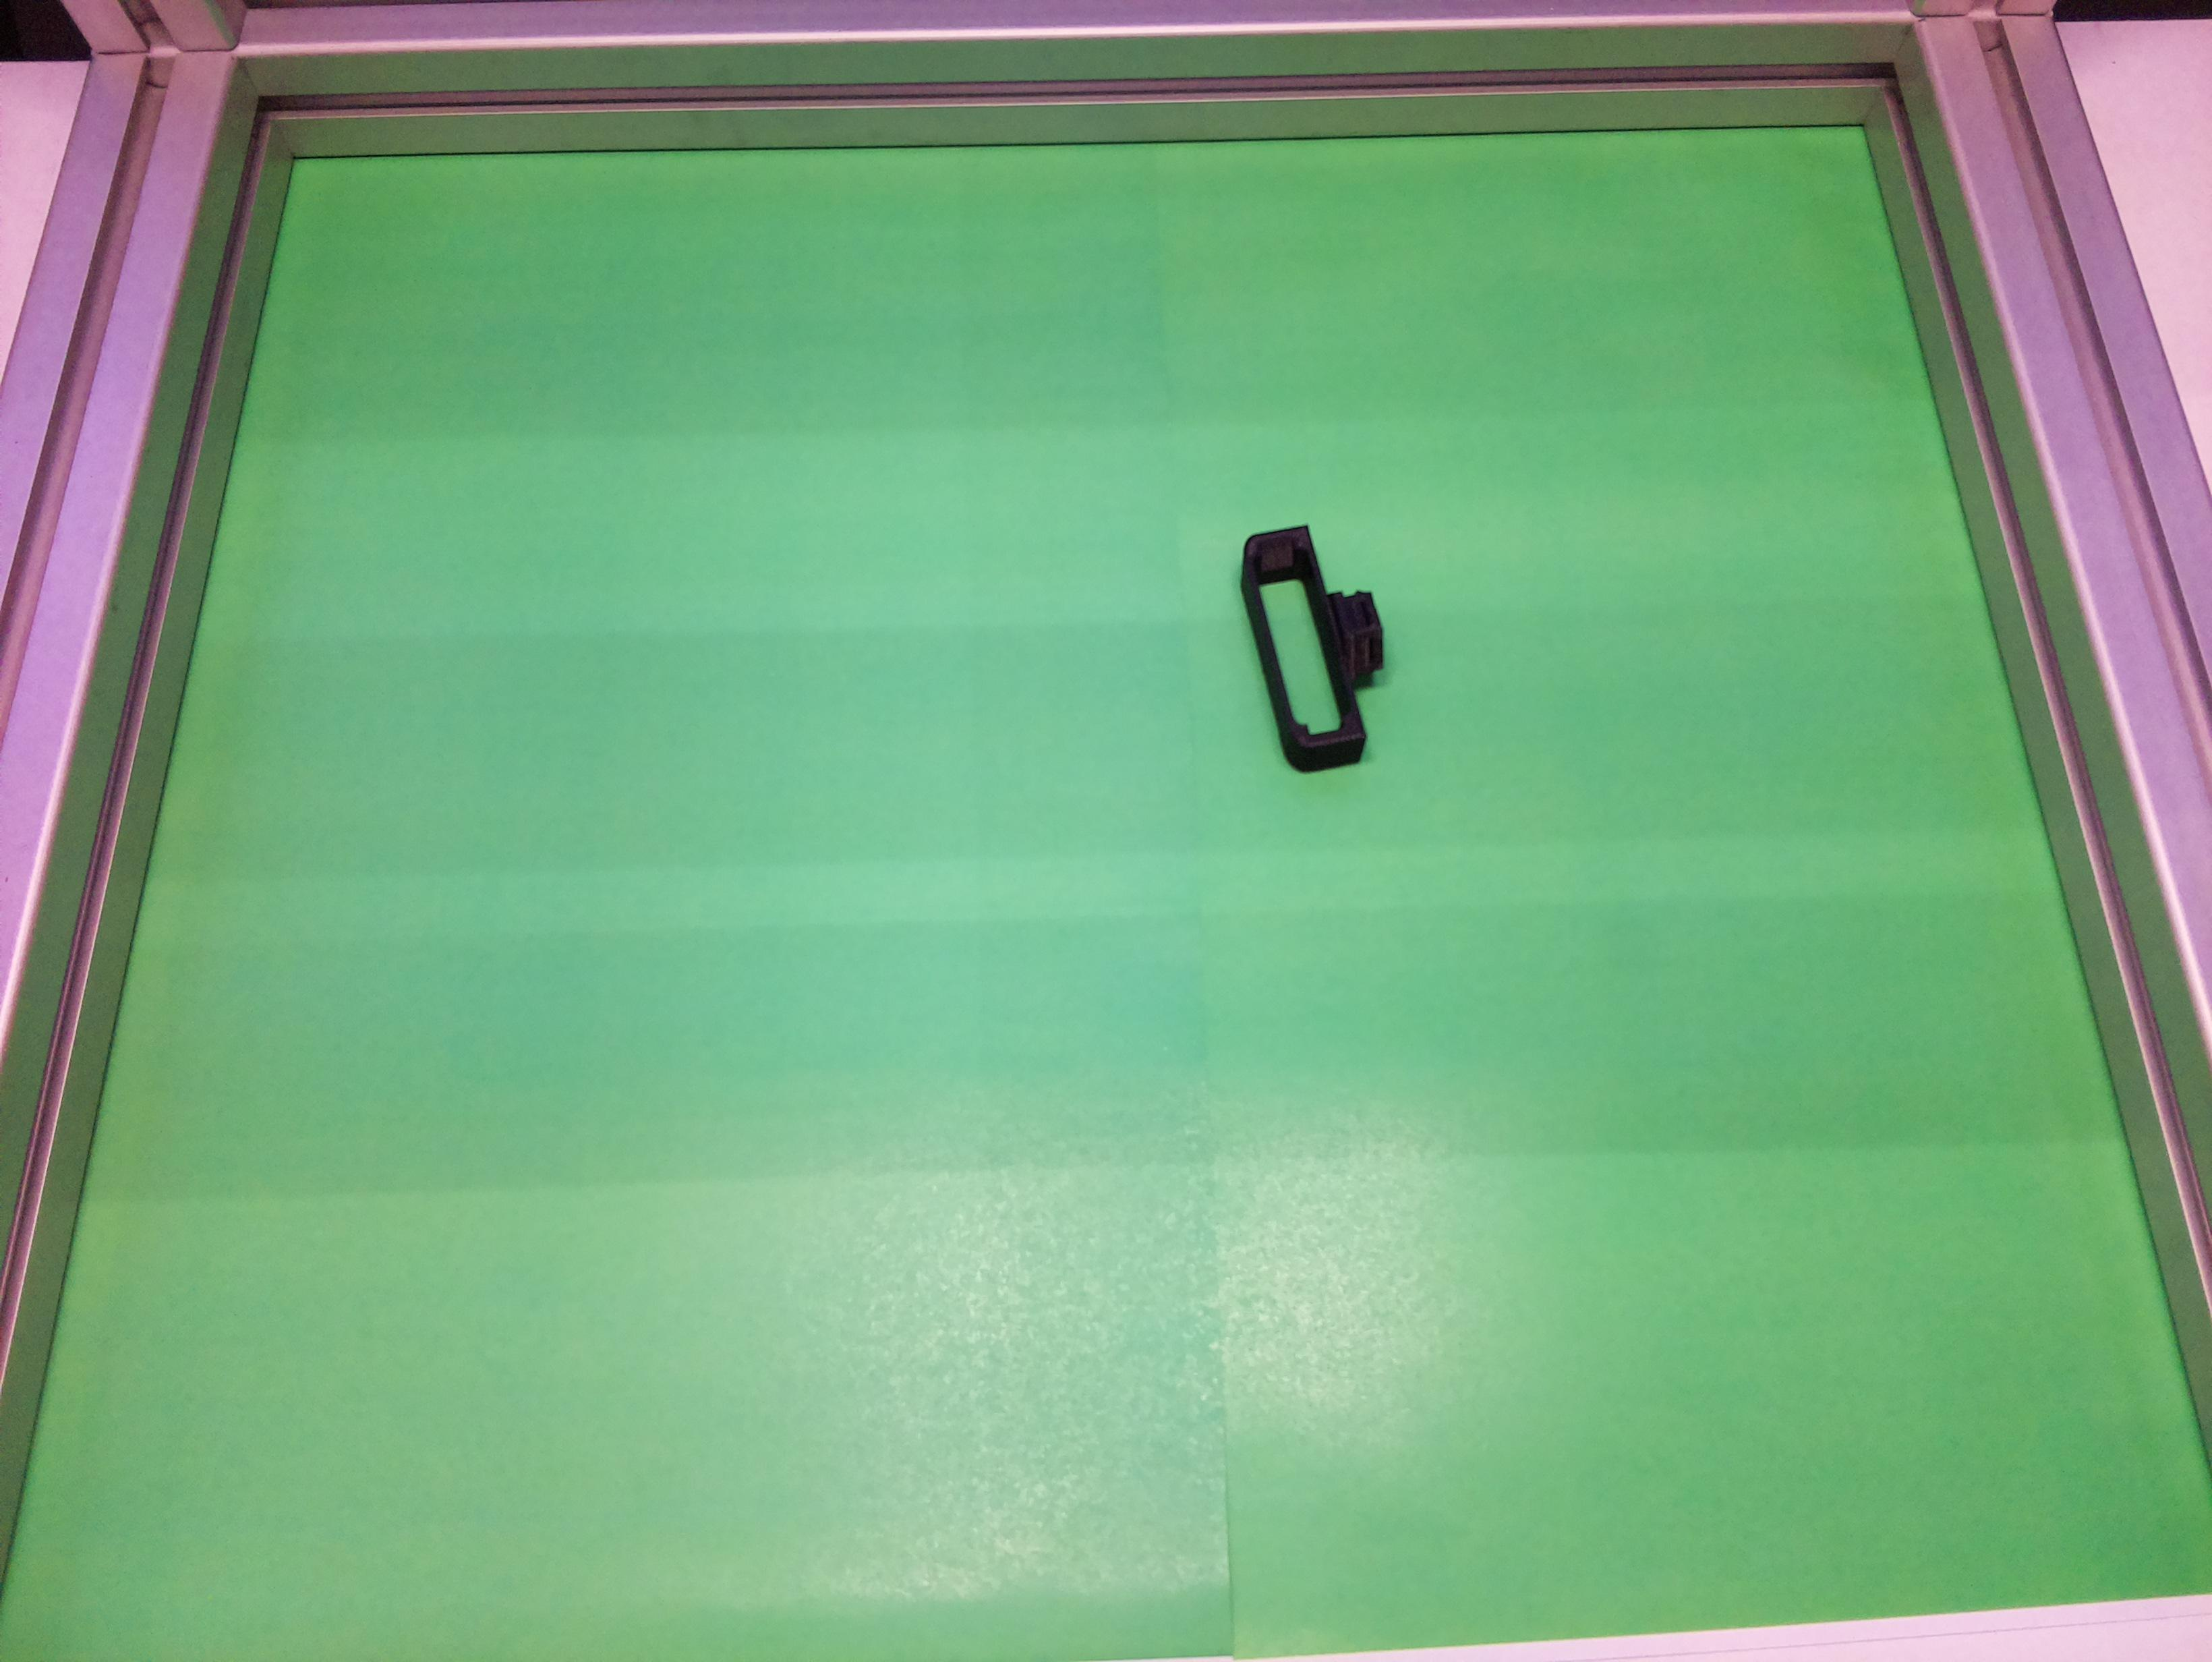cutter_holder: (1228, 511, 1411, 780)
